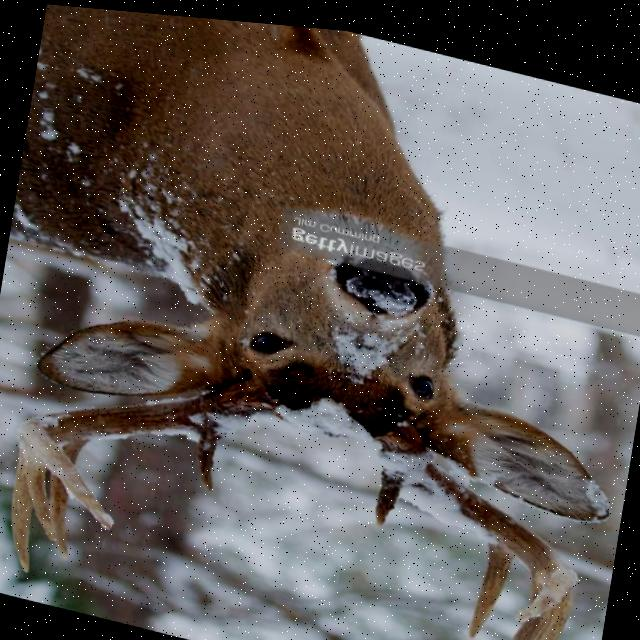L-F: (376, 414, 579, 613)
L-G1: (376, 451, 409, 520)
L-G2: (468, 525, 517, 630)
R-F: (19, 375, 284, 526)
R-G1: (196, 426, 227, 488)
R-G4: (24, 446, 55, 540)
